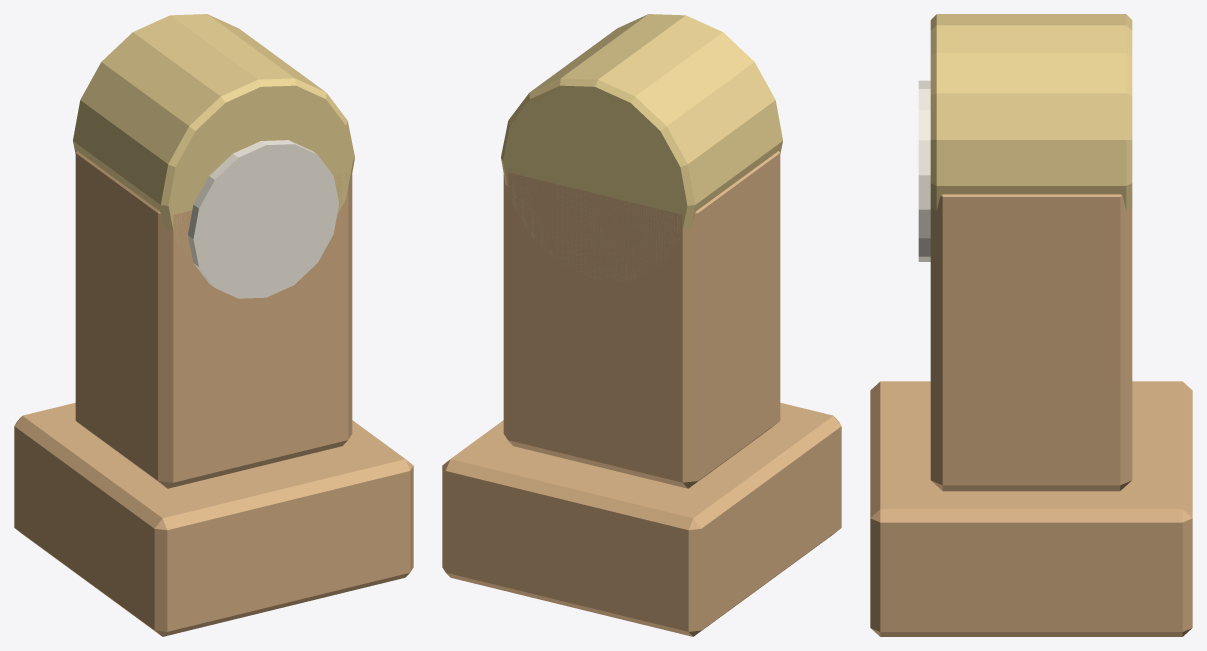
File: horloge.glb
3 renders of one model, left to right at view 1: azimuth 30°, elevation 25°; view 2: azimuth 150°, elevation 25°; view 3: azimuth 270°, elevation 25°, orthographic. The views are drawn at different scales.
Visible parts, largest first — view 1: horloge_body, horloge_base, horloge_top, horloge_dial; view 2: horloge_body, horloge_base, horloge_top; view 3: horloge_base, horloge_body, horloge_top, horloge_dial.
Part boxes in pixels (x1,y1,x2,y2): horloge_body: (75,151,352,488); horloge_base: (14,402,413,636); horloge_top: (73,14,354,264); horloge_dial: (188,140,339,298); horloge_body: (503,151,780,488); horloge_base: (442,402,841,636); horloge_top: (501,14,782,280); horloge_base: (870,381,1192,636); horloge_body: (930,194,1132,491); horloge_top: (930,14,1132,210); horloge_dial: (918,80,930,261).
Size of the model in its own units: 1.6 by 3 by 1.6.
